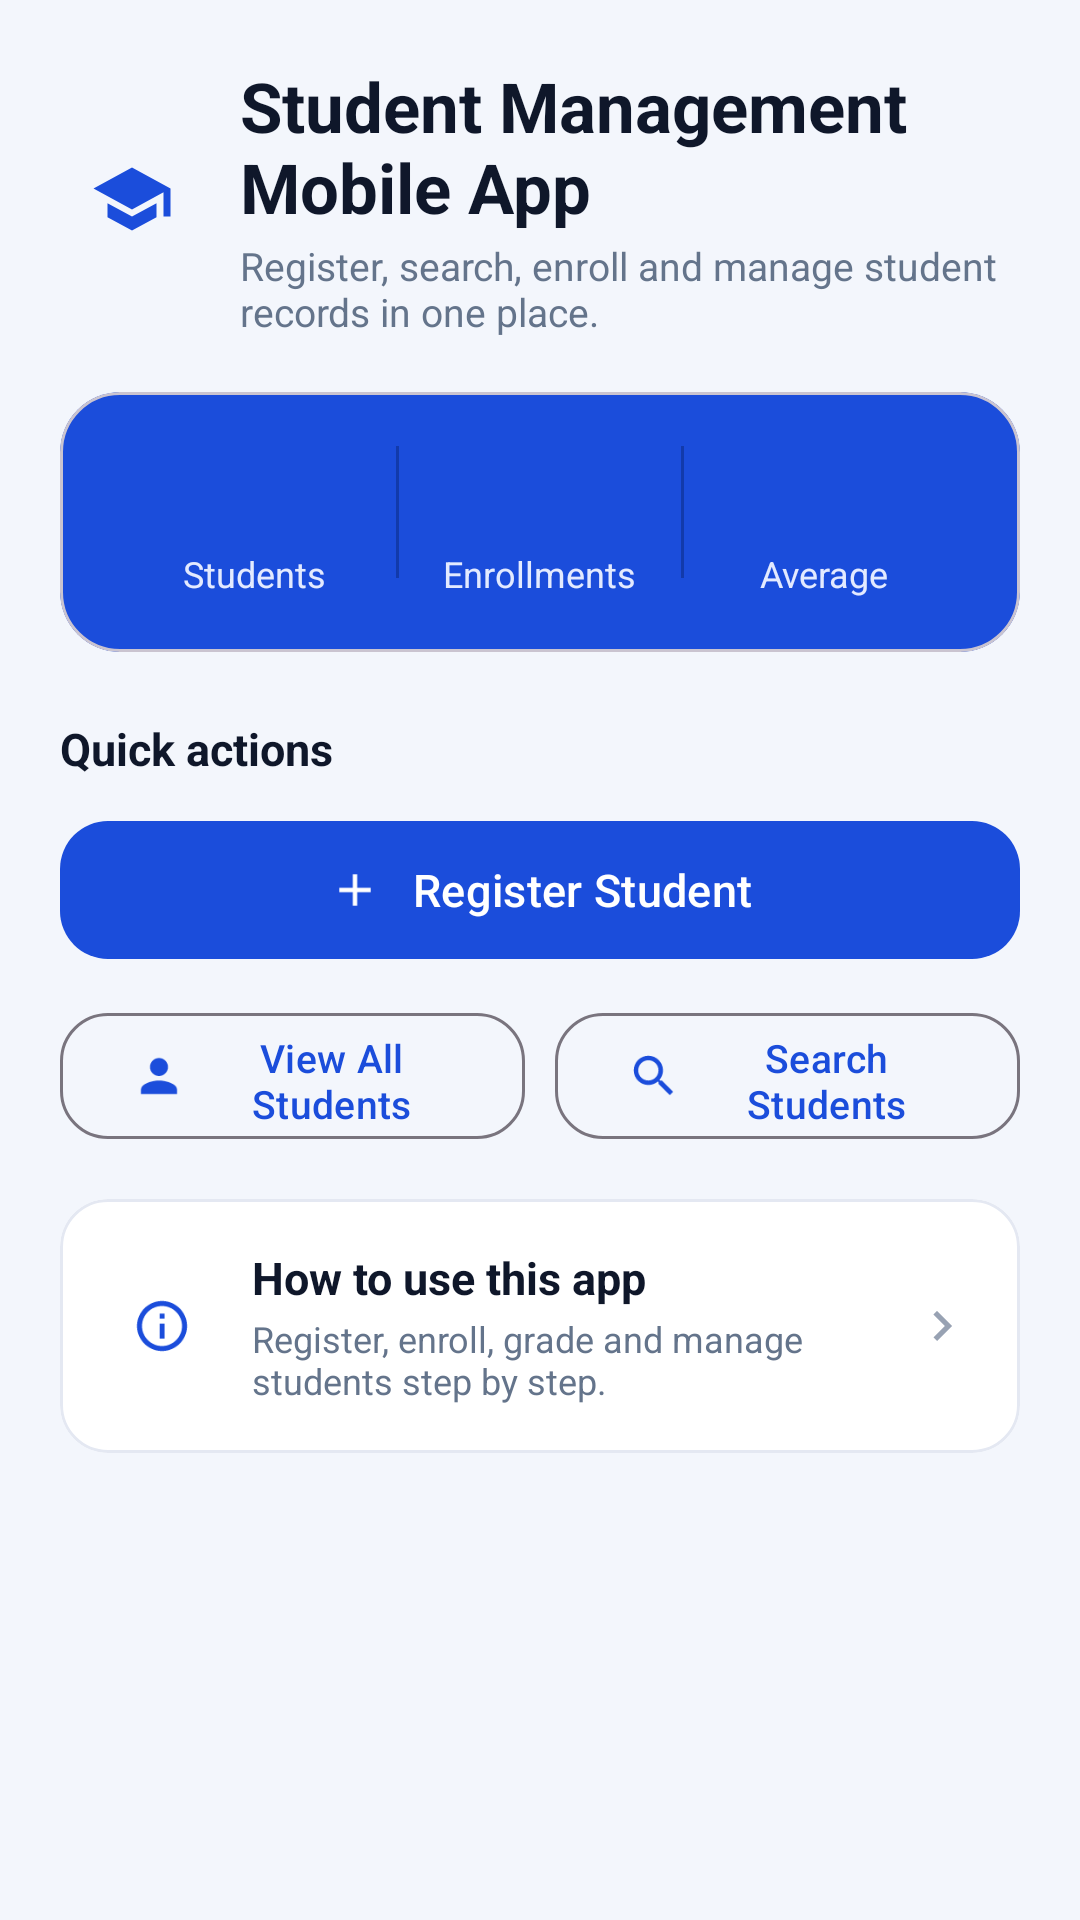

Screen size 1080 × 1920. Icon name, then its center in pixels as point (x, y):
chevron right: point (942, 1326)
info: point (162, 1326)
school: point (132, 199)
